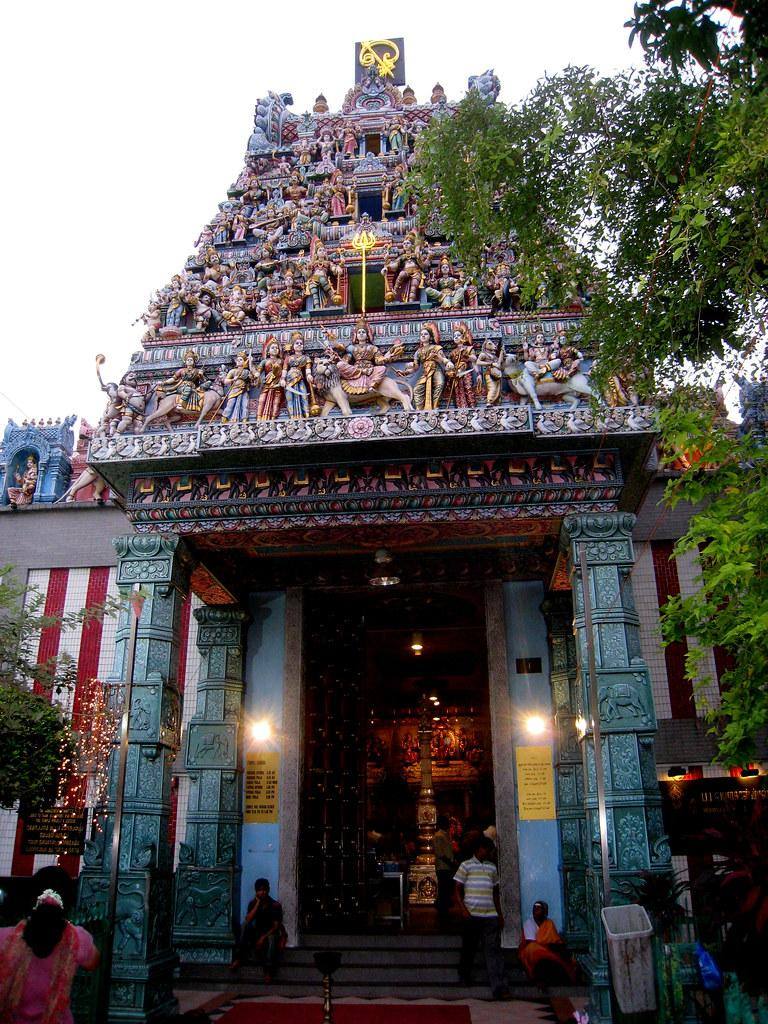temple: (36, 36, 746, 1020)
